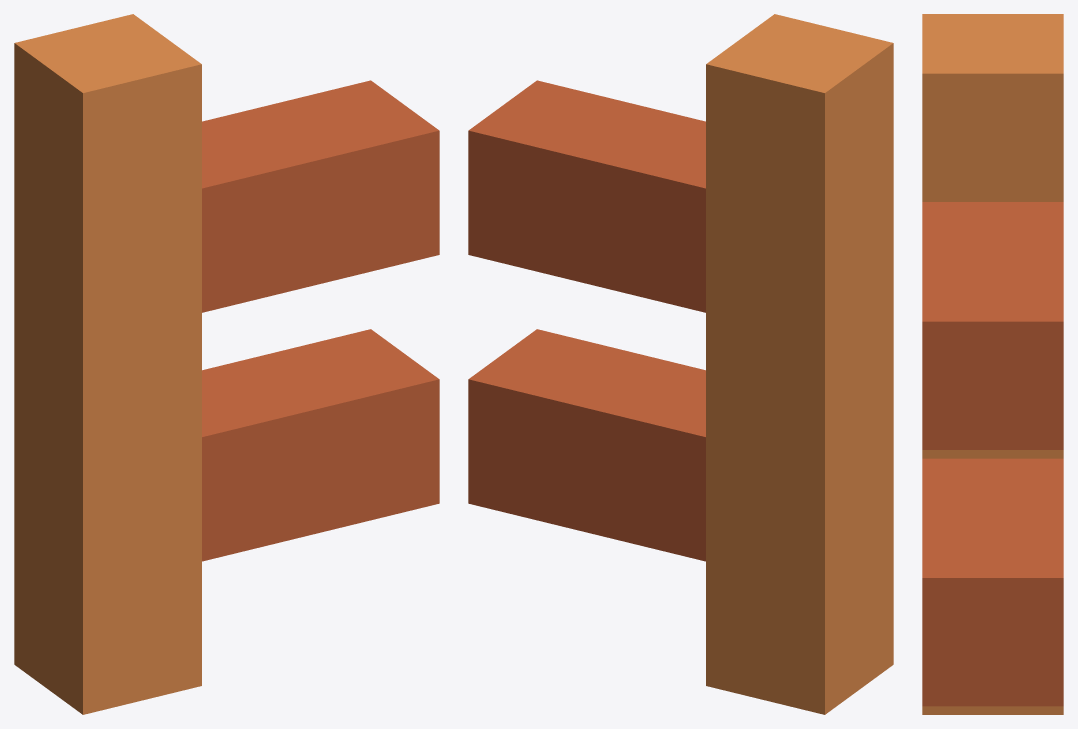
File: fence_end.obj
3 views of the same model, side by side, from view 1: azimuth 30°, elevation 25°; view 2: azimuth 150°, elevation 25°; view 3: azimuth 270°, elevation 25° (orthographic). The views are drawn at different scales.
Bounding box in the file's own units: 0.3 × 0.5 × 0.1.
Materials: 1 (1 with a texture image).
